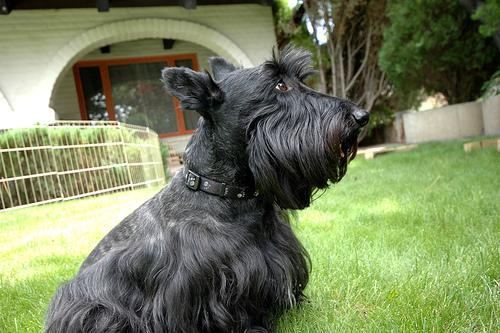dog-scottish_terrier: (161, 56, 368, 174)
